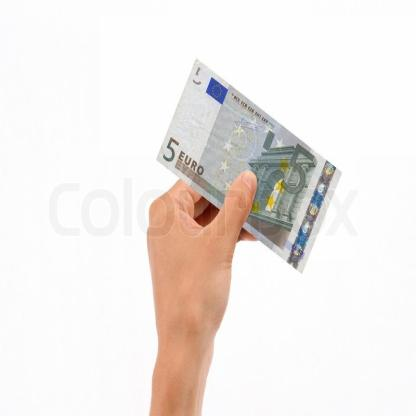billete: (155, 56, 342, 276)
